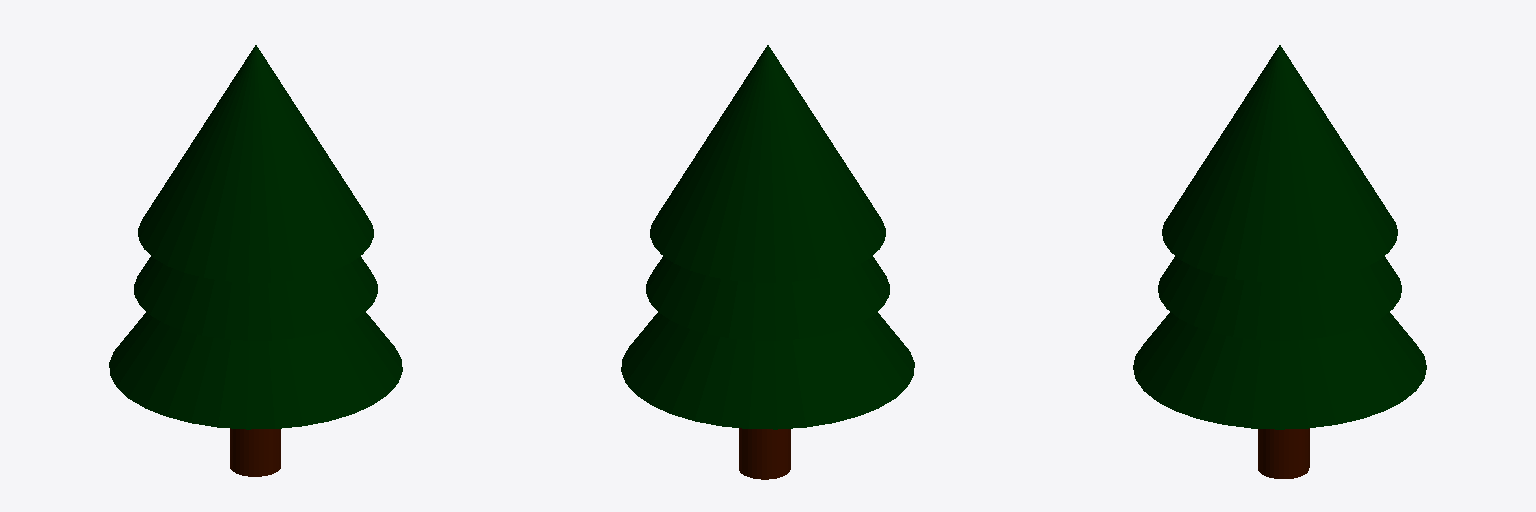
File: tree.obj
3 views of the same model, side by side, from view 1: azimuth 30°, elevation 25°; view 2: azimuth 150°, elevation 25°; view 3: azimuth 270°, elevation 25° (orthographic).
Visible parts, largest first — view 1: Cone.002, Cone, Cone.001, Cylinder; view 2: Cone.002, Cone, Cone.001, Cylinder; view 3: Cone.002, Cone, Cone.001, Cylinder.
Boxes of the visible parts, box(x1,y1,x2,y2) form: Cone.002: box(138, 45, 373, 282); Cone: box(109, 312, 402, 429); Cone.001: box(134, 256, 377, 340); Cylinder: box(230, 428, 280, 476); Cone.002: box(650, 45, 885, 282); Cone: box(621, 312, 914, 429); Cone.001: box(646, 256, 889, 340); Cylinder: box(739, 428, 790, 479); Cone.002: box(1162, 45, 1397, 282); Cone: box(1133, 312, 1426, 429); Cone.001: box(1158, 256, 1401, 340); Cylinder: box(1258, 428, 1309, 478).
Size of the model in its own units: 2.83 by 4.49 by 2.83.